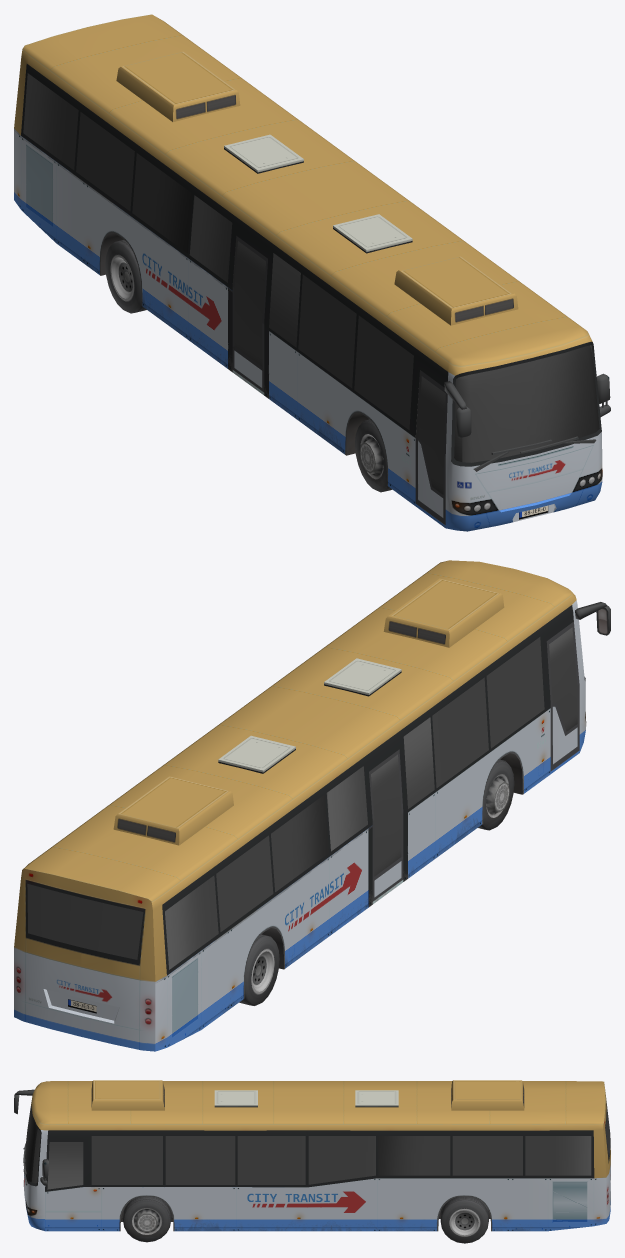
The picture shows the model from 3 angles, top to bottom: view 1: azimuth 30°, elevation 25°; view 2: azimuth 150°, elevation 25°; view 3: azimuth 270°, elevation 25°; orthographic projection. The views are drawn at different scales.
Visible parts, largest first — view 1: Car_Body, RB_Wheel, RF_Wheel; view 2: Car_Body, RB_Wheel, RF_Wheel; view 3: Car_Body, LB_Wheel, LF_Wheel.
Boxes of the visible parts, x1=… form: Car_Body: x1=14, y1=14, x2=610, y2=531; RB_Wheel: x1=105, y1=239, x2=146, y2=313; RF_Wheel: x1=355, y1=419, x2=392, y2=492; Car_Body: x1=14, y1=560, x2=610, y2=1051; RB_Wheel: x1=239, y1=934, x2=279, y2=1005; RF_Wheel: x1=478, y1=759, x2=514, y2=830; Car_Body: x1=14, y1=1080, x2=610, y2=1231; LB_Wheel: x1=440, y1=1196, x2=488, y2=1243; LF_Wheel: x1=123, y1=1196, x2=171, y2=1242.
Bounding box in the file's own units: 2.67 × 2.96 × 12.23.
2 materials, 2 textured.
